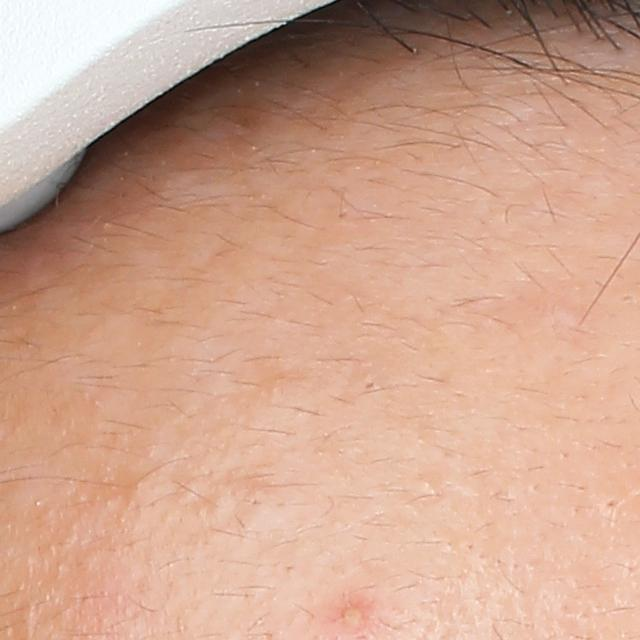pustule: (333, 594, 370, 633)
